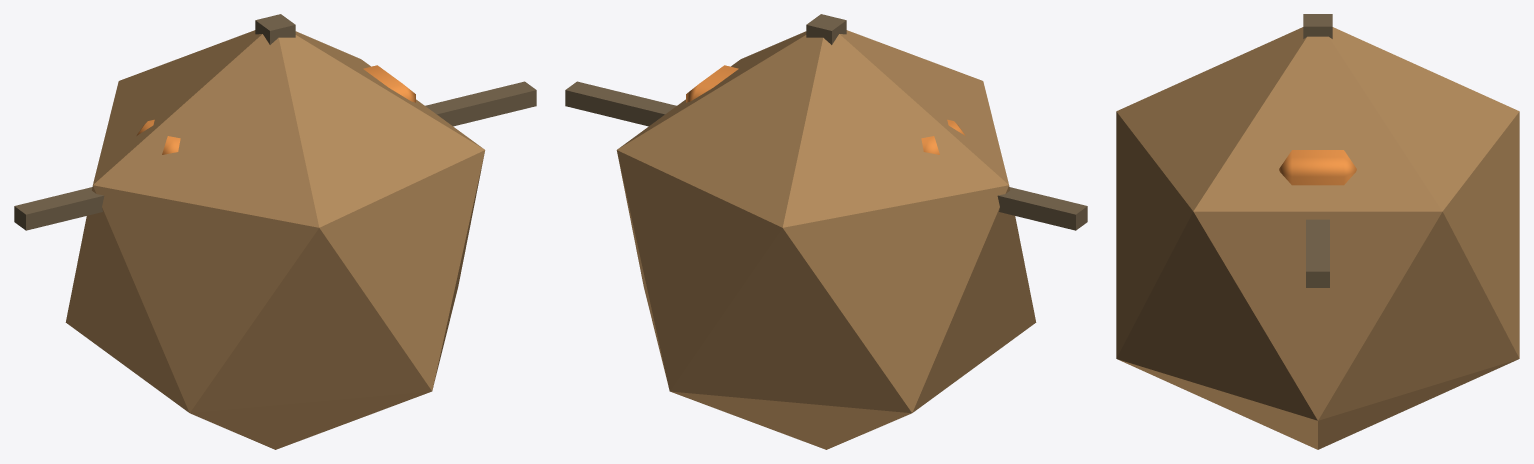
File: prop-kit.glb
3 views of the same model, side by side, from view 1: azimuth 30°, elevation 25°; view 2: azimuth 150°, elevation 25°; view 3: azimuth 270°, elevation 25° (orthographic).
Parts seen in each view (by area): view 1: Rock variant 3.005, Reusable fence rail.005, Reusable barrier.005, Reusable fence post.005; view 2: Rock variant 3.005, Reusable fence rail.005, Reusable barrier.005, Reusable fence post.005; view 3: Rock variant 3.005, Reusable barrier.005, Reusable fence rail.005, Reusable fence post.005.
Boxes of the visible parts, x1,y1,x2,y2 form: Rock variant 3.005: (65, 30, 485, 449); Reusable fence rail.005: (14, 81, 536, 230); Reusable barrier.005: (136, 65, 415, 154); Reusable fence post.005: (255, 14, 295, 44); Rock variant 3.005: (616, 30, 1036, 449); Reusable fence rail.005: (565, 81, 1087, 230); Reusable barrier.005: (686, 65, 965, 154); Reusable fence post.005: (806, 14, 846, 44); Rock variant 3.005: (1116, 27, 1519, 449); Reusable barrier.005: (1279, 150, 1356, 185); Reusable fence rail.005: (1306, 219, 1329, 287); Reusable fence post.005: (1303, 14, 1332, 38).
Bounding box in the file's own units: 4 × 3.2 × 2.72.
